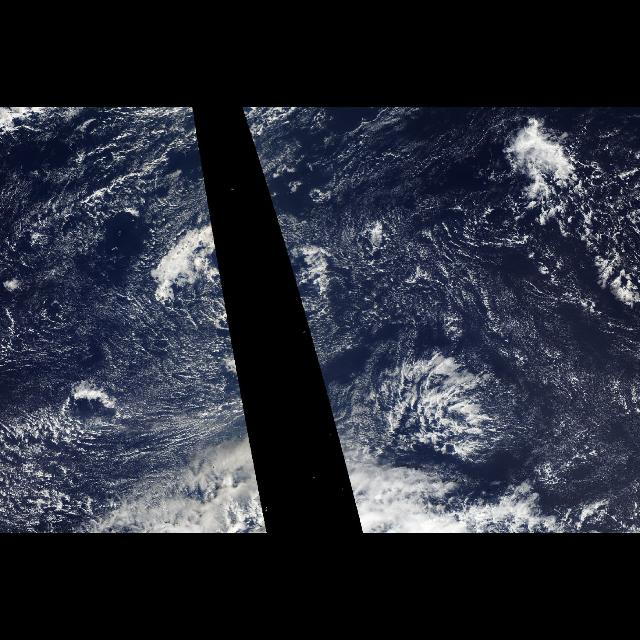Fish: (352, 358, 550, 476)
Gravel: (488, 146, 638, 302)
Sugar: (4, 164, 256, 460), (288, 124, 518, 346), (552, 342, 634, 480)
